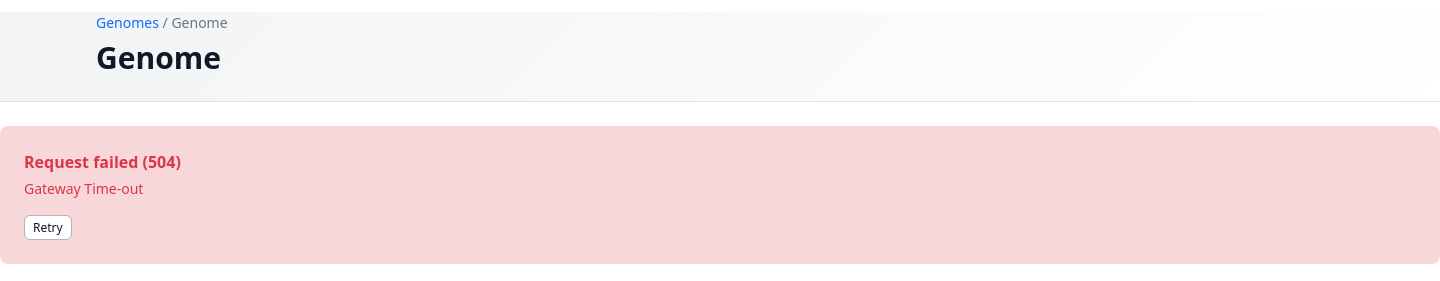
Test case: GenomePage › shows an error with a retry action on a 504
The image size is (1440, 281).
Expected: the message shows "504", [138, 151, 181, 173]
Click the button "Retry": click(48, 228) [24, 215, 72, 240]
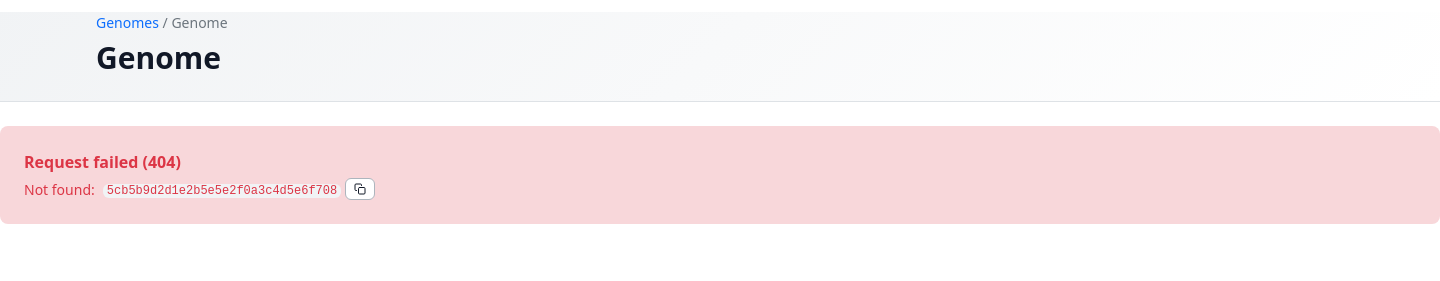
Expected: the text "Not found:" is shown, [24, 178, 95, 200]
